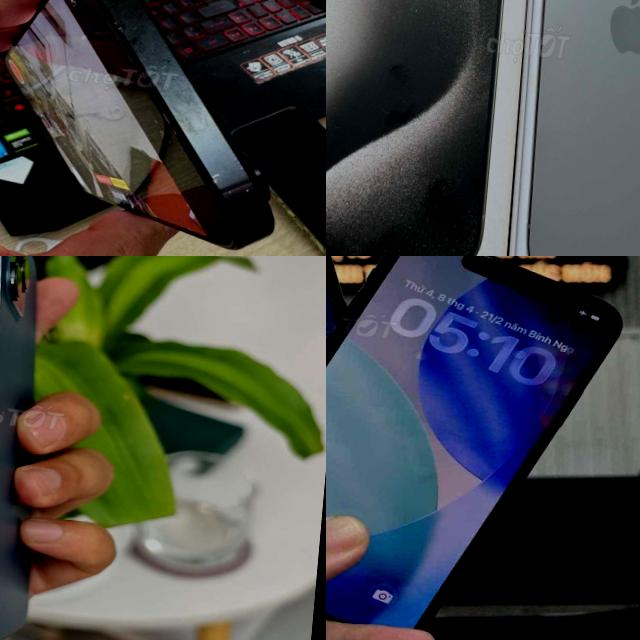gen_11: (326, 256, 627, 640)
gen_12_13: (0, 256, 79, 640)
gen_15: (506, 0, 640, 256)
gen_16: (0, 0, 308, 256)
